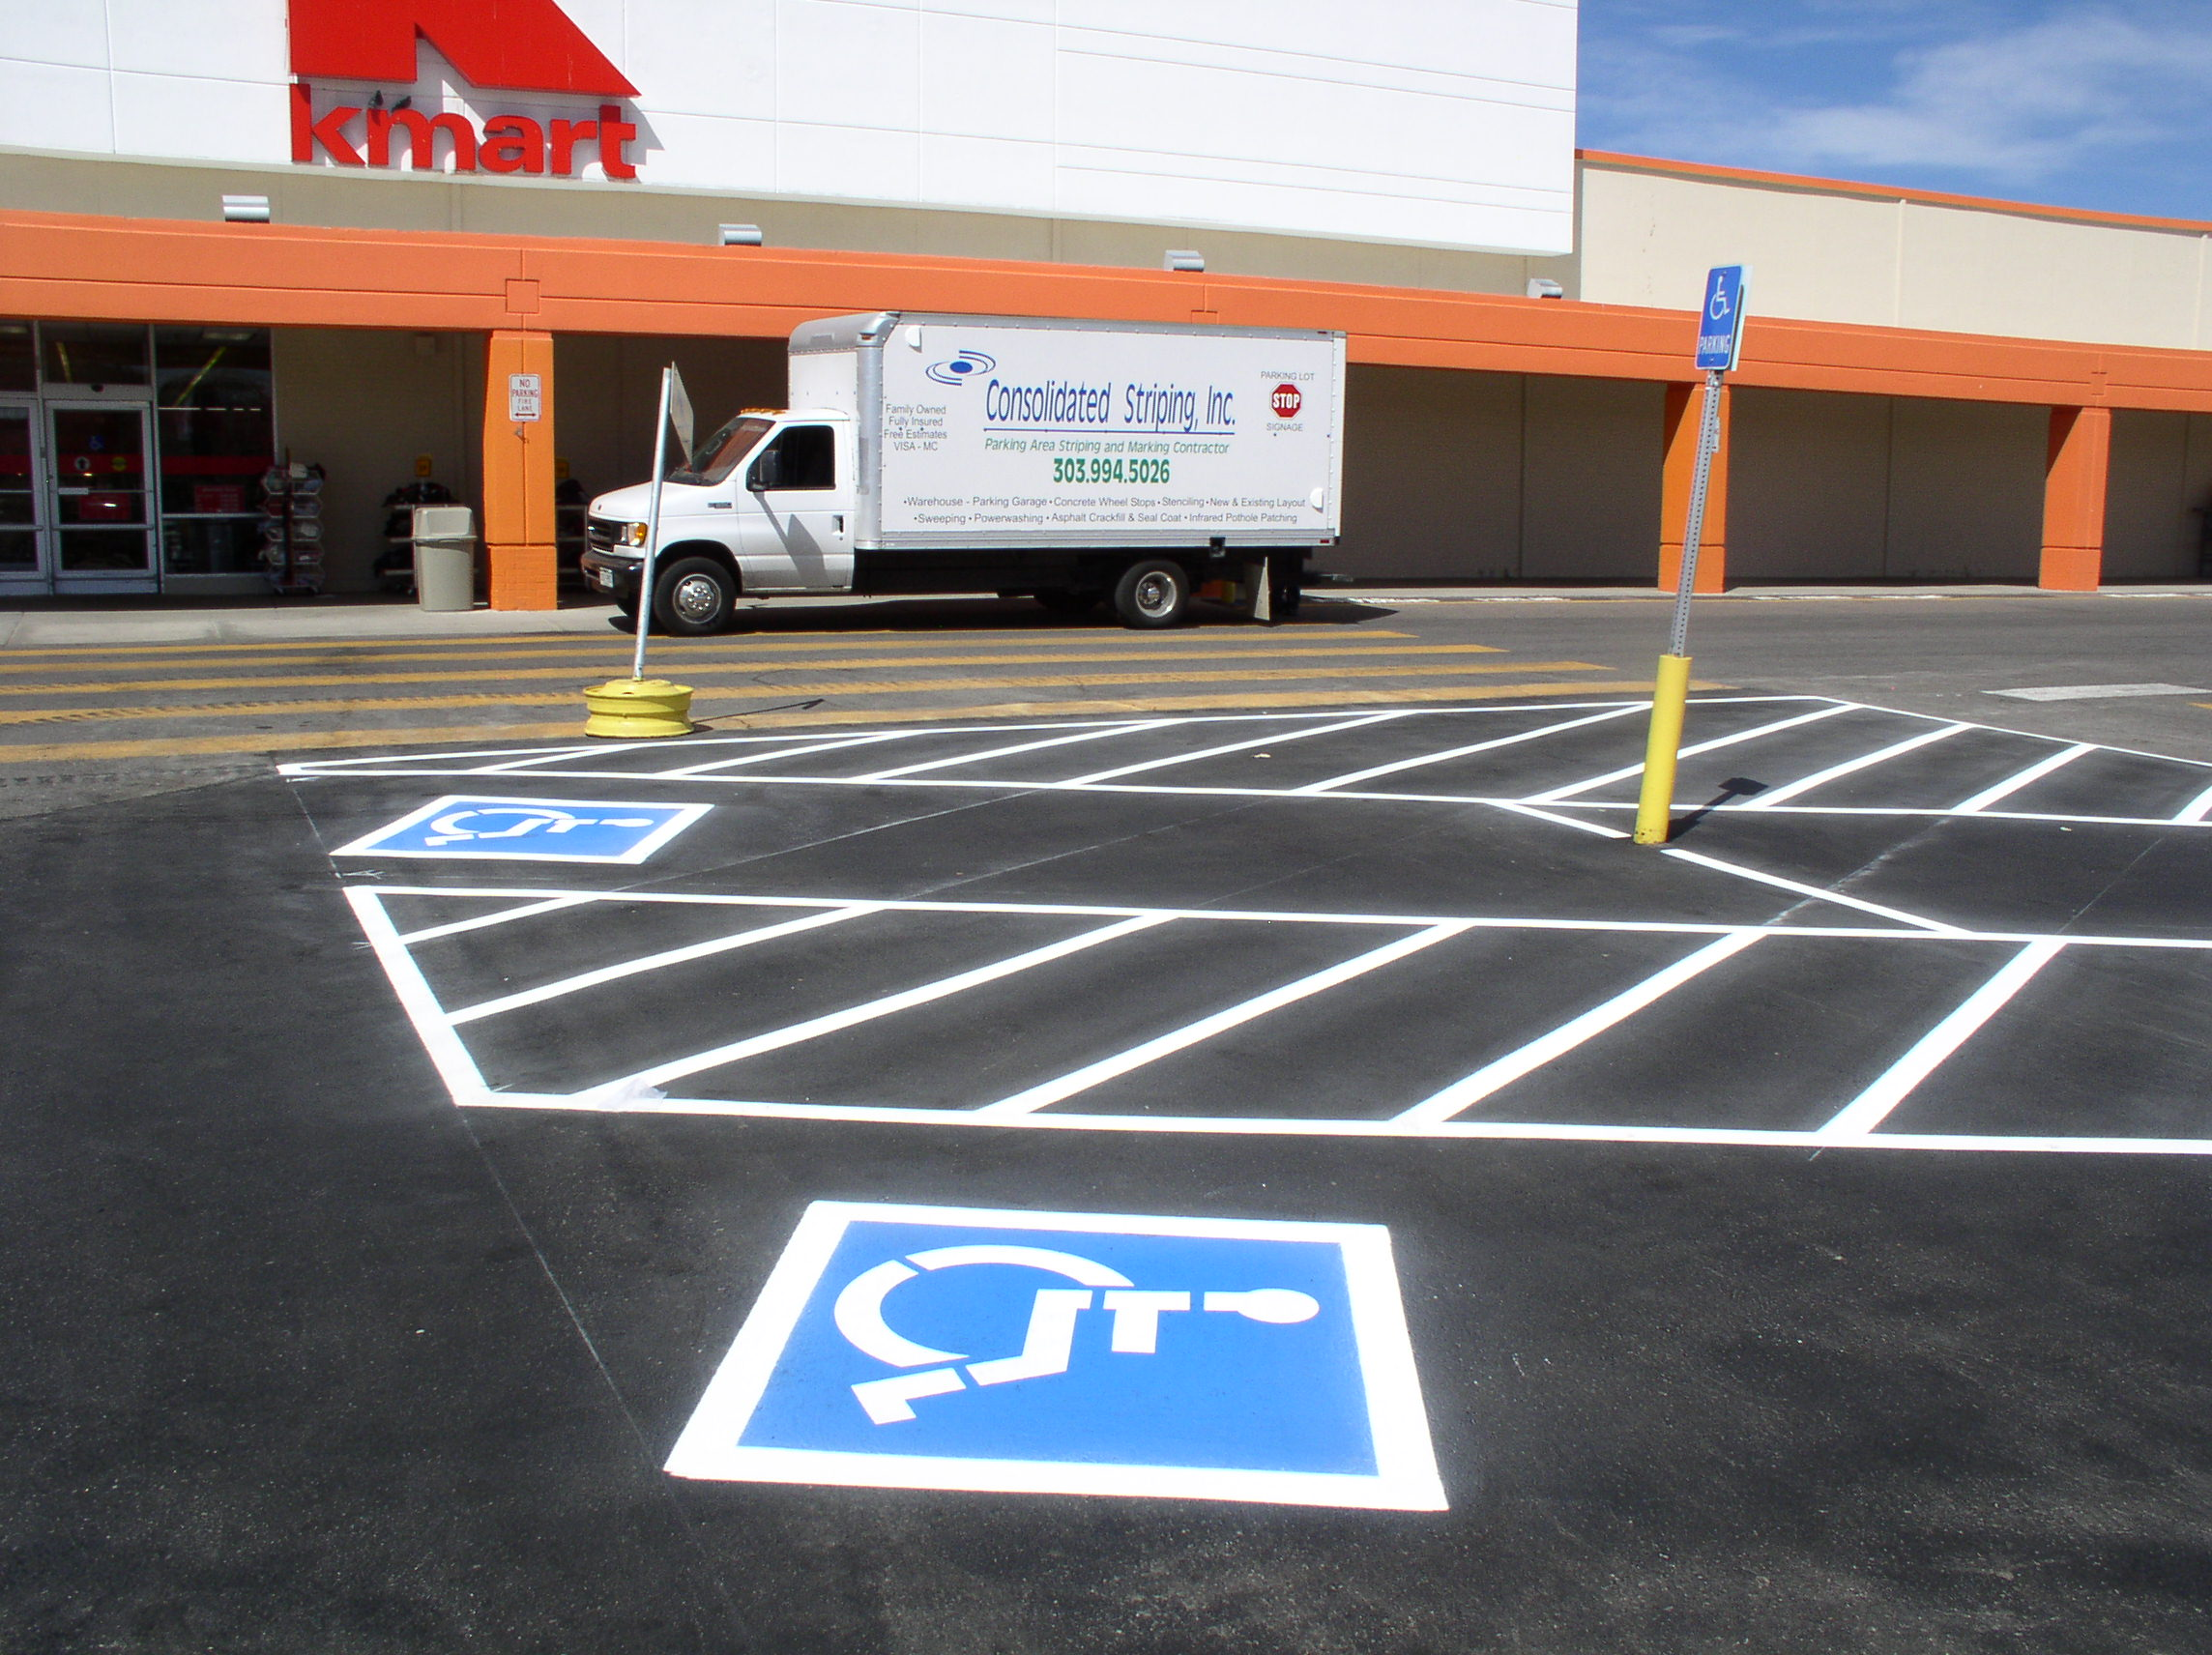empyt_space: (438, 1085, 2212, 1652), (280, 768, 1998, 993), (1501, 768, 2212, 958)
